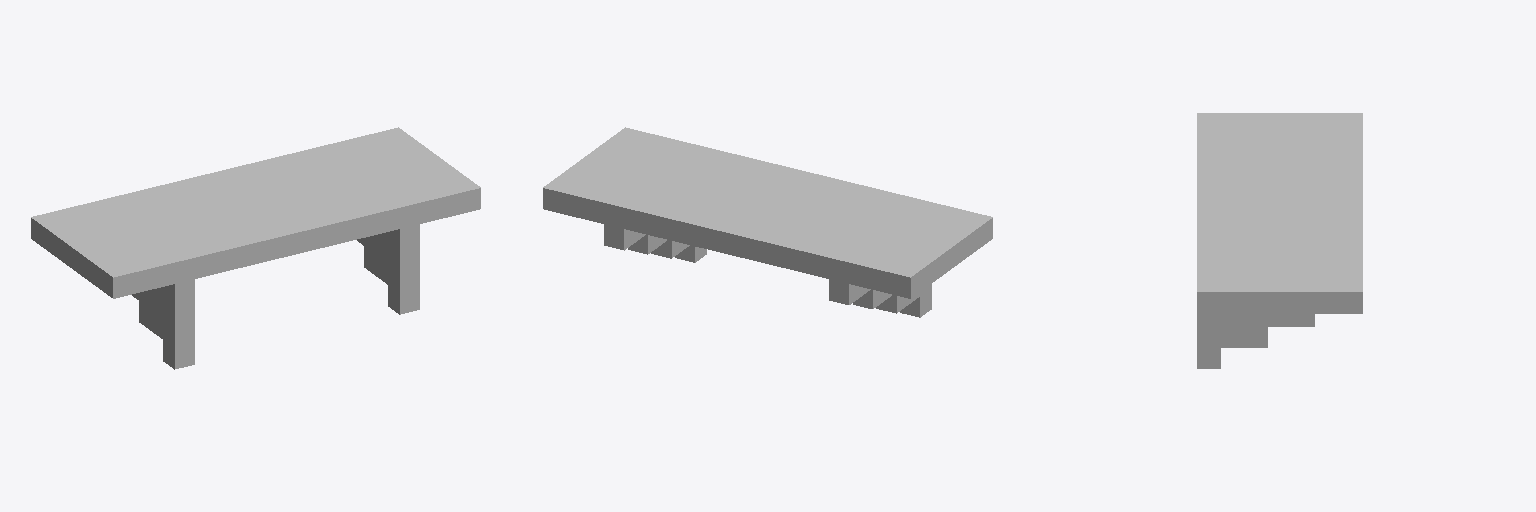
File: Shelf.obj
3 renders of one model, left to right at view 1: azimuth 30°, elevation 25°; view 2: azimuth 150°, elevation 25°; view 3: azimuth 270°, elevation 25°, orthographic.
Visible parts, largest first — view 1: Shelf; view 2: Shelf; view 3: Shelf.
Boxes of the visible parts, <box> form: Shelf: <box>31,127,480,369</box>; Shelf: <box>543,127,992,317</box>; Shelf: <box>1197,113,1362,368</box>.
Bounding box in the file's own units: 18 × 5 × 7.